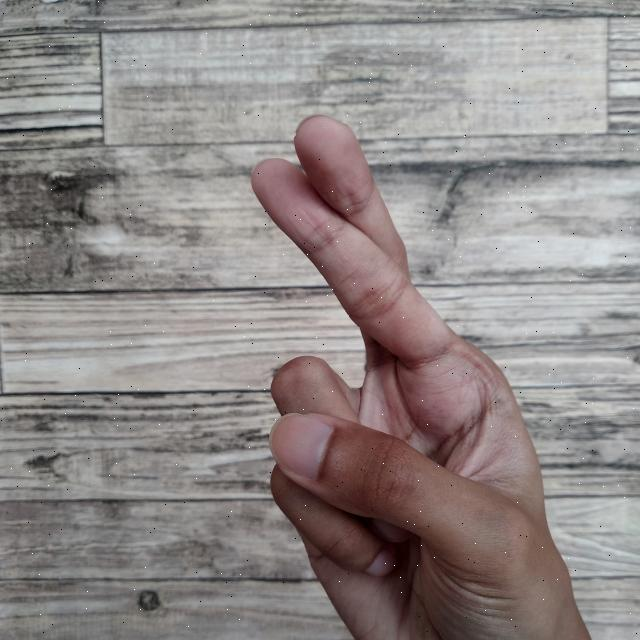R: (238, 106, 600, 640)
